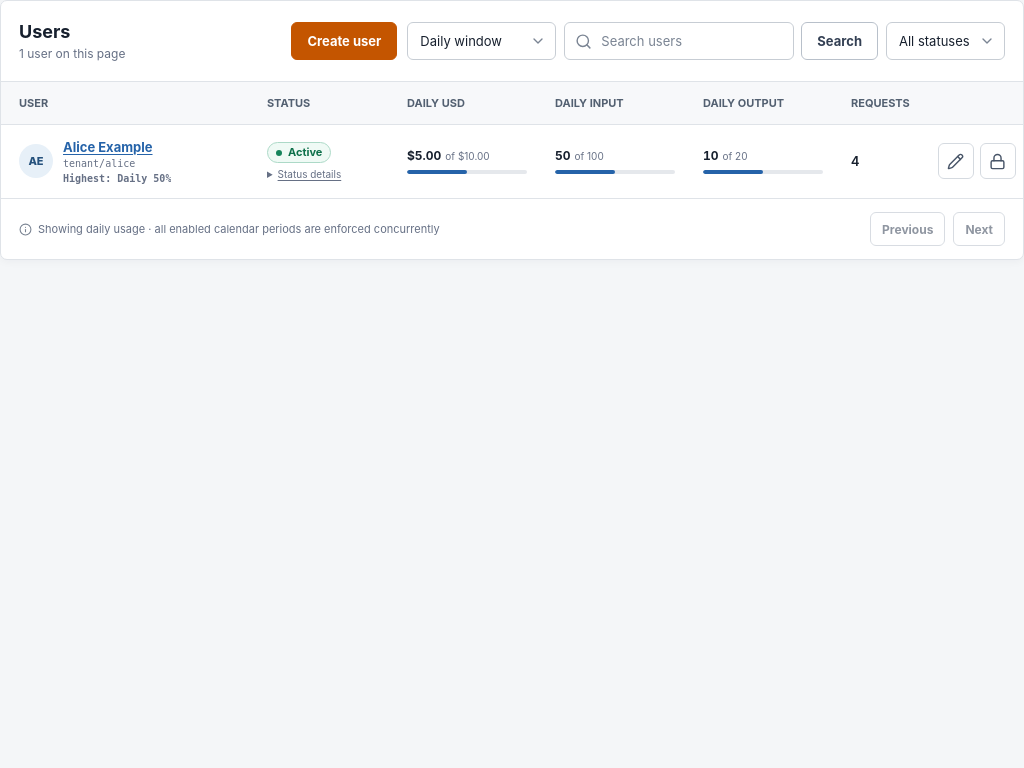
Test case: status safety dialog › persists a trimmed reason and replaces the row locally even when summary refresh fails
Click the button named "Block Alice Example".
click(998, 161)  # box [980,143,1016,179]
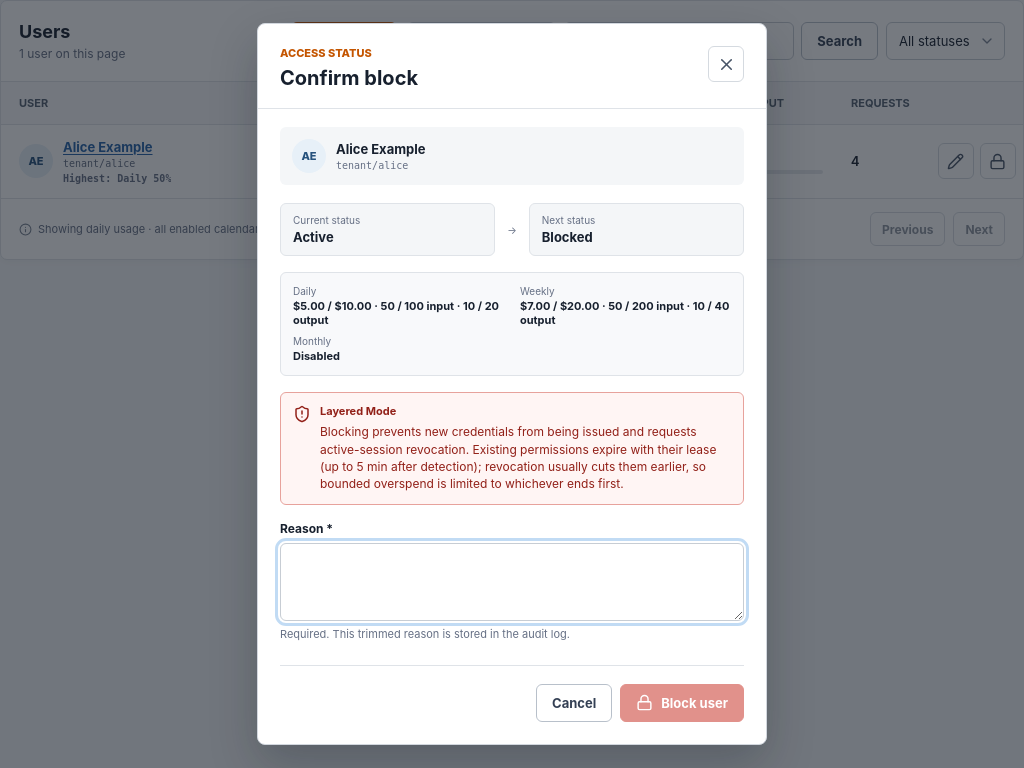
Type "  Policy request  " into the text box labelled "Reason *".
click(512, 582); type("  Policy request  ")  # box [280,543,744,621]
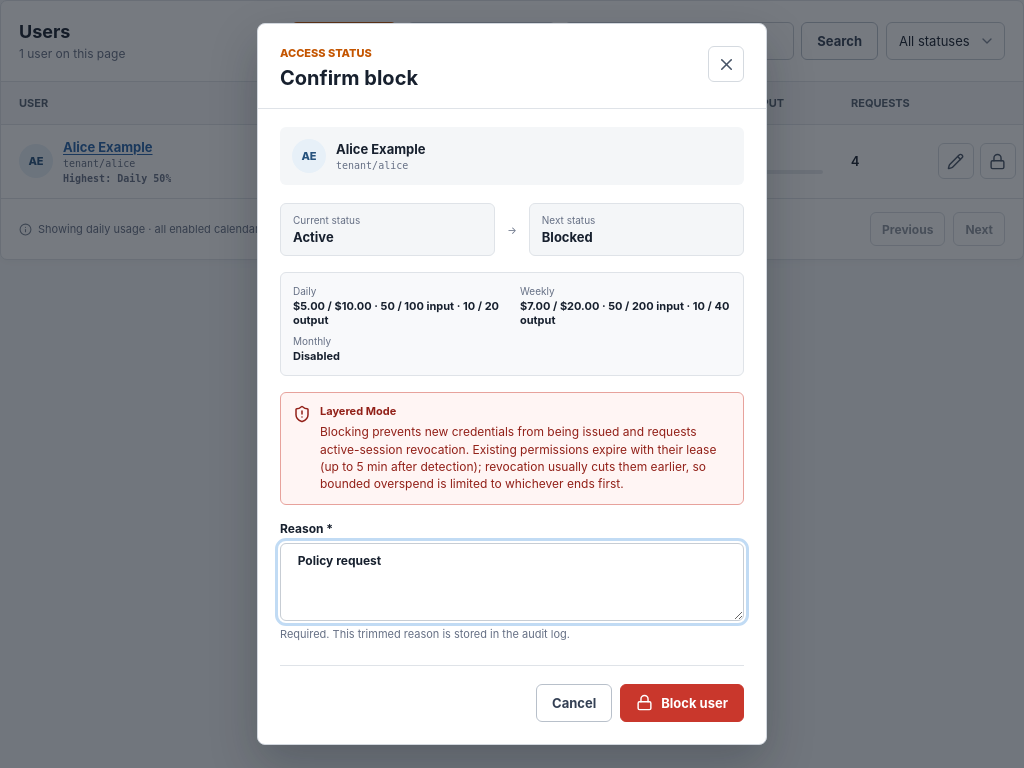
Click the button "Block user".
click(682, 703)  # box [620,684,744,722]
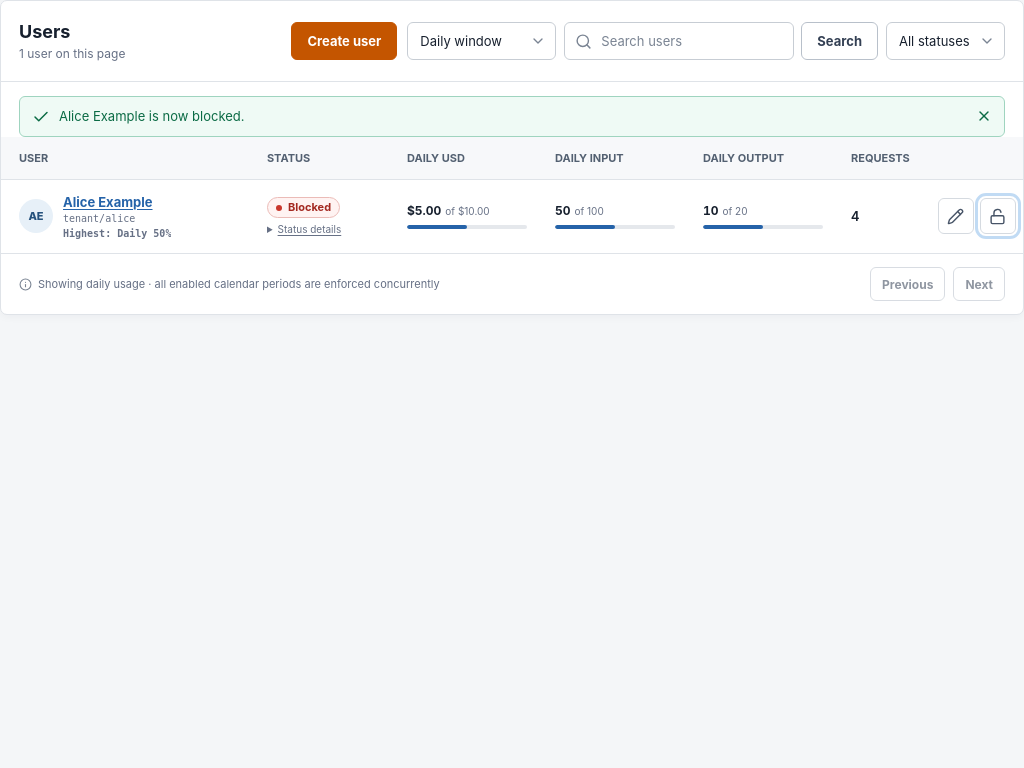
Now the dialog is gone
Now the text "blocked" is shown, box [267,197,340,218]
Now the text "Alice Example is now blocked." is shown, box [59,108,244,124]
